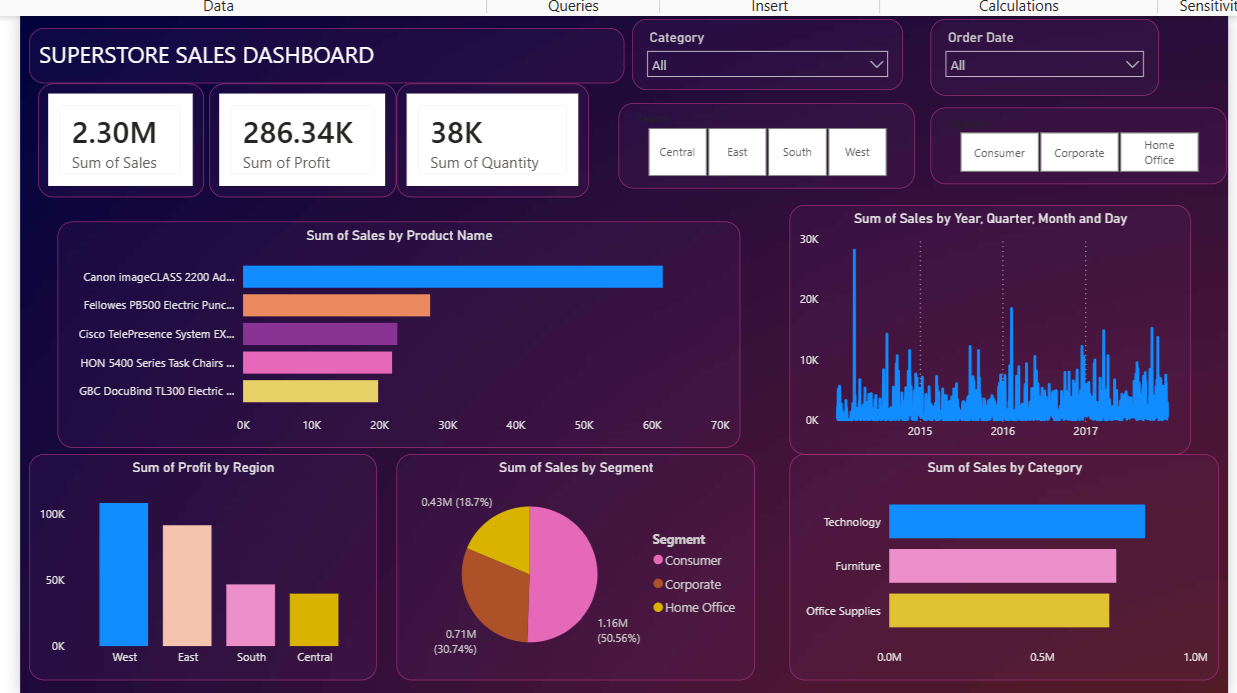

Layout of this report page (visuals, bound fields, positions):
{"tool":"powerbi","page":{"name":"Page 1","canvas":[1280,720],"ordinal":0},"visuals":[{"type":"textbox","box":[9.5,12.7,631.5,58.9],"z":0},{"type":"barChart","fields":{"Category":["Superstore.Category"],"Y":["Sum(Superstore.Sales)"]},"box":[816.4,464.9,455.4,240],"z":1000},{"type":"slicer","fields":{"Values":["Superstore.Region"]},"box":[635,92.6,313.7,90.7],"z":2000},{"type":"cardVisual","fields":{"Data":["Sum(Superstore.Sales)"]},"box":[18.9,71.8,175.7,120.9],"z":3000},{"type":"cardVisual","fields":{"Data":["Sum(Superstore.Profit)"]},"box":[200.3,71.8,198.4,120.9],"z":4000},{"type":"cardVisual","fields":{"Data":["Sum(Superstore.Quantity)"]},"box":[398.7,71.8,204.1,120.9],"z":5000},{"type":"lineChart","fields":{"Y":["Sum(Superstore.Sales)"],"Category":["Superstore.Order Date.Variation.Date Hierarchy.Year","Superstore.Order Date.Variation.Date Hierarchy.Quarter","Superstore.Order Date.Variation.Date Hierarchy.Month","Superstore.Order Date.Variation.Date Hierarchy.Day"]},"box":[816.4,200.3,425.2,264.6],"z":6000},{"type":"columnChart","fields":{"Y":["Sum(Superstore.Profit)"],"Category":["Superstore.Region"]},"box":[9.4,464.9,368.5,240],"z":7000},{"type":"pieChart","fields":{"Y":["Sum(Superstore.Sales)"],"Category":["Superstore.Segment"]},"box":[398.7,464.9,379.8,240],"z":8000},{"type":"barChart","fields":{"Category":["Superstore.Product Name"],"Y":["Sum(Superstore.Sales)"]},"box":[39.7,217.3,723.8,240],"z":9000},{"type":"slicer","fields":{"Values":["Superstore.Category"]},"box":[648.2,3.8,287.2,75.6],"z":10000},{"type":"slicer","fields":{"Values":["Superstore.Segment"]},"box":[965.7,96.4,313.7,81.3],"z":11000},{"type":"slicer","fields":{"Values":["Superstore.Order Date"]},"box":[965.7,3.8,241.9,81.3],"z":12000}]}

Visuals, with their boxes on the page's 1280x720 design canvas (x1, y1, x2, y2). These are canvas units, not pixel positions in the 1237x693 screenshot, which may show the page scaled, cropped or inside an application window:
textbox: region(10, 13, 641, 72)
barChart - Superstore.Category x Sum(Superstore.Sales): region(816, 465, 1272, 705)
slicer - Superstore.Region: region(635, 93, 949, 183)
cardVisual - Sum(Superstore.Sales): region(19, 72, 195, 193)
cardVisual - Sum(Superstore.Profit): region(200, 72, 399, 193)
cardVisual - Sum(Superstore.Quantity): region(399, 72, 603, 193)
lineChart - Sum(Superstore.Sales) x Superstore.Order Date.Variation.Date Hierarchy.Year: region(816, 200, 1242, 465)
columnChart - Sum(Superstore.Profit) x Superstore.Region: region(9, 465, 378, 705)
pieChart - Sum(Superstore.Sales) x Superstore.Segment: region(399, 465, 778, 705)
barChart - Superstore.Product Name x Sum(Superstore.Sales): region(40, 217, 764, 457)
slicer - Superstore.Category: region(648, 4, 935, 79)
slicer - Superstore.Segment: region(966, 96, 1279, 178)
slicer - Superstore.Order Date: region(966, 4, 1208, 85)
